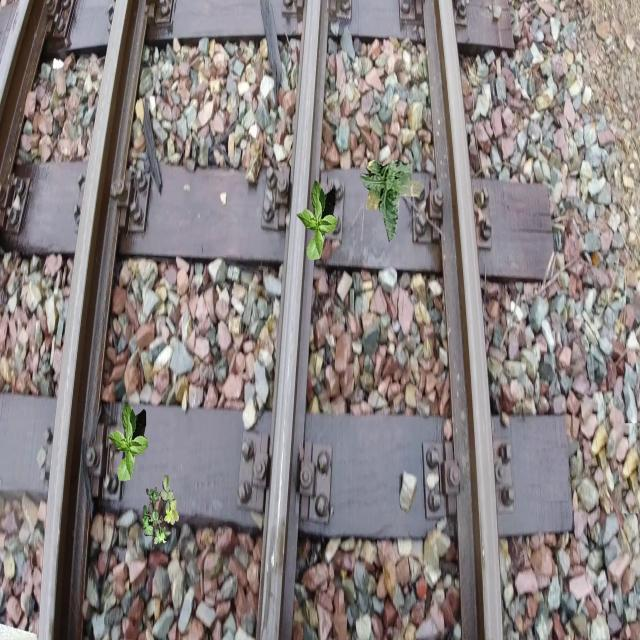Plant: (360, 160, 423, 243), (296, 180, 338, 260), (107, 401, 149, 481), (142, 475, 180, 548)
